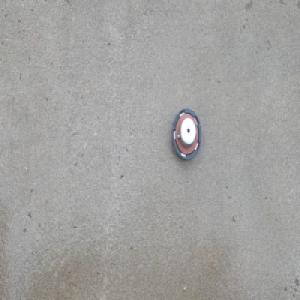FuelCap: (170, 108, 201, 163)
